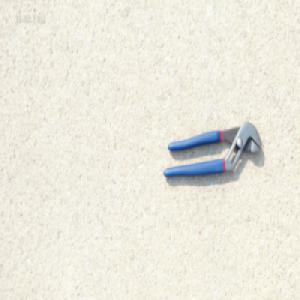Pliers: (162, 118, 262, 179)
